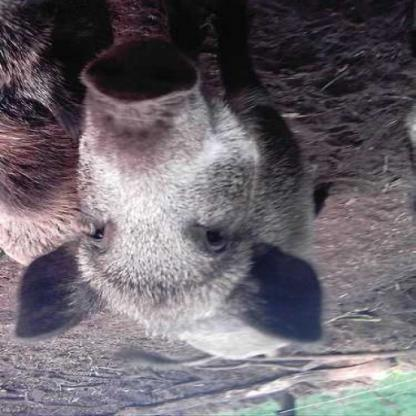boar: (1, 27, 314, 379)
